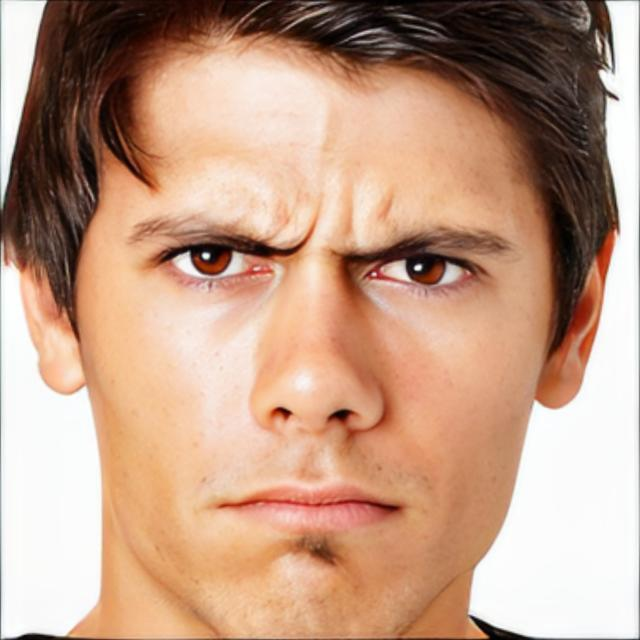anger: (86, 47, 540, 640)
